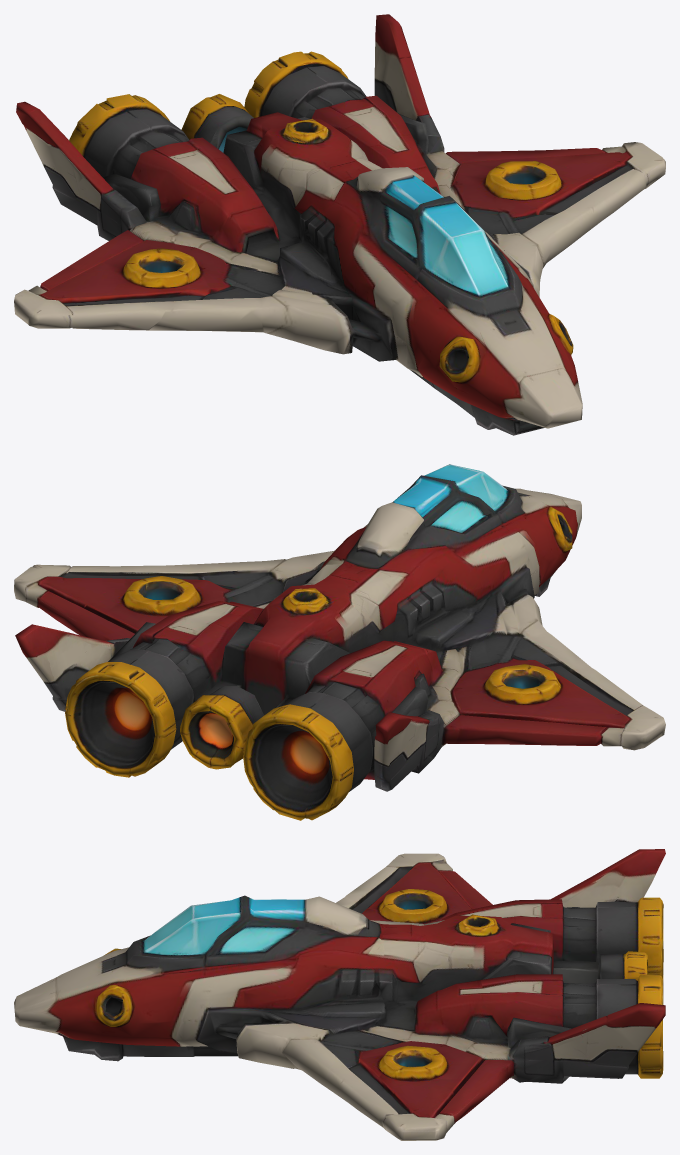
Rendered from ace.glb.
The picture shows the model from 3 angles, top to bottom: view 1: azimuth 30°, elevation 25°; view 2: azimuth 150°, elevation 25°; view 3: azimuth 270°, elevation 25°; orthographic projection. The views are drawn at different scales.
Visible parts, largest first — view 1: tripo_node_a22a6083-898f-461f-8ba5-afc278a73eda; view 2: tripo_node_a22a6083-898f-461f-8ba5-afc278a73eda; view 3: tripo_node_a22a6083-898f-461f-8ba5-afc278a73eda.
Boxes of the visible parts, x1=… form: tripo_node_a22a6083-898f-461f-8ba5-afc278a73eda: x1=14, y1=14, x2=665, y2=435; tripo_node_a22a6083-898f-461f-8ba5-afc278a73eda: x1=14, y1=464, x2=665, y2=820; tripo_node_a22a6083-898f-461f-8ba5-afc278a73eda: x1=14, y1=849, x2=665, y2=1140.
Size of the model in its own units: 0.9782 by 0.2408 by 0.975.
Materials: 1 (1 with a texture image).
